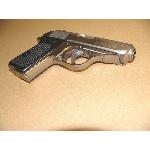Pistol: (7, 29, 137, 83)
